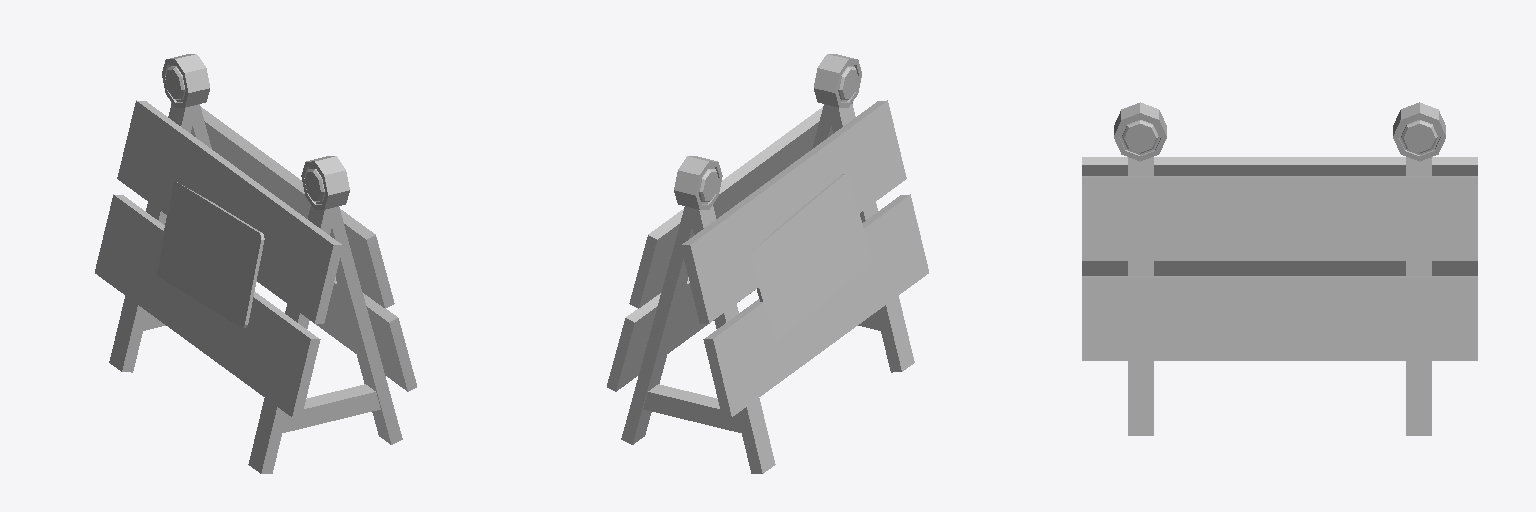
The model's file is auf.obj.
The picture shows the model from 3 angles: view 1: azimuth 30°, elevation 25°; view 2: azimuth 150°, elevation 25°; view 3: azimuth 270°, elevation 25°; orthographic projection.
Visible parts, largest first — view 1: Куб.002, Куб.004, auf, Цилиндр, Куб; view 2: Куб.002, auf, Куб.004, Цилиндр, Куб; view 3: Куб.002, Куб.004, Цилиндр.
Part boxes in pixels (left/top/right/bottom): Куб.002: left=95, top=100, right=416, bottom=417; Куб.004: left=109, top=104, right=402, bottom=473; auf: left=157, top=182, right=264, bottom=327; Цилиндр: left=162, top=54, right=349, bottom=209; Куб: left=143, top=313, right=380, bottom=432; Куб.002: left=607, top=100, right=928, bottom=417; auf: left=751, top=174, right=871, bottom=340; Куб.004: left=621, top=104, right=914, bottom=473; Цилиндр: left=674, top=54, right=861, bottom=209; Куб: left=643, top=313, right=880, bottom=432; Куб.002: left=1082, top=157, right=1477, bottom=360; Куб.004: left=1128, top=157, right=1431, bottom=435; Цилиндр: left=1114, top=102, right=1445, bottom=161.
Bounding box in the file's own units: 1.26 × 2.53 × 3.05.